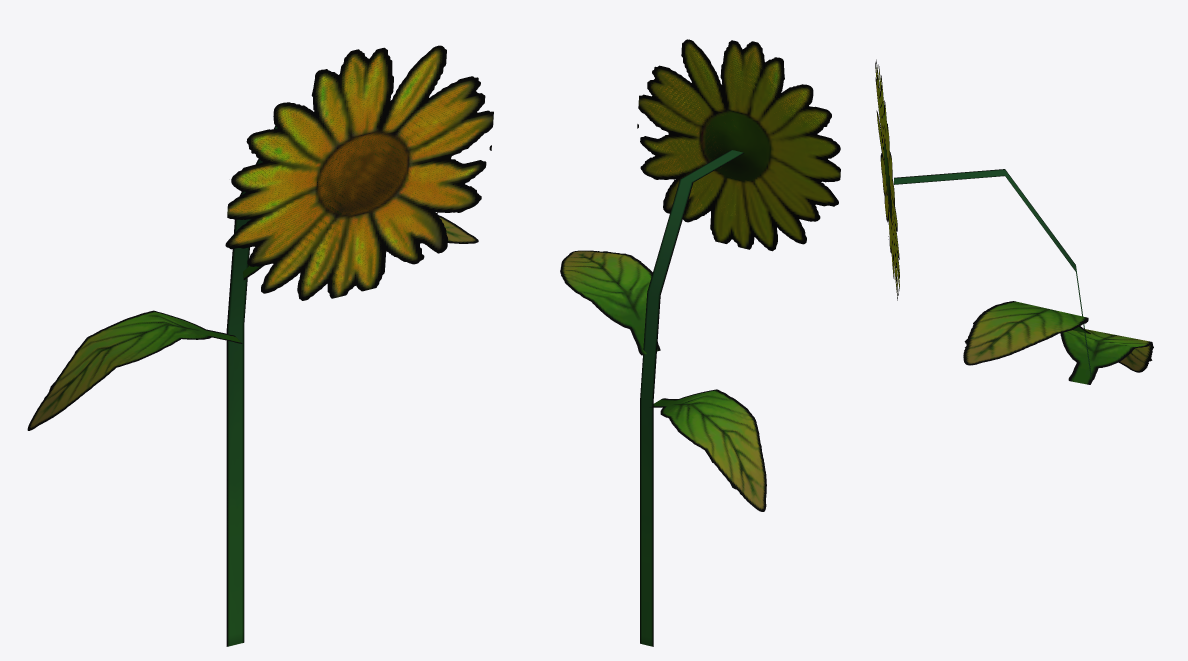
The model's file is grass_06.FBX.
The picture shows the model from 3 angles, left to right: view 1: azimuth 30°, elevation 25°; view 2: azimuth 150°, elevation 25°; view 3: azimuth 270°, elevation 25°; orthographic projection. The views are drawn at different scales.
Parts seen in each view (by area): view 1: grass_06; view 2: grass_06; view 3: grass_06.
Boxes of the visible parts, bbox=[...] form: grass_06: bbox=[27, 45, 493, 646]; grass_06: bbox=[560, 39, 840, 646]; grass_06: bbox=[875, 59, 1153, 384].
Bounding box in the file's own units: 191 × 324 × 152.
